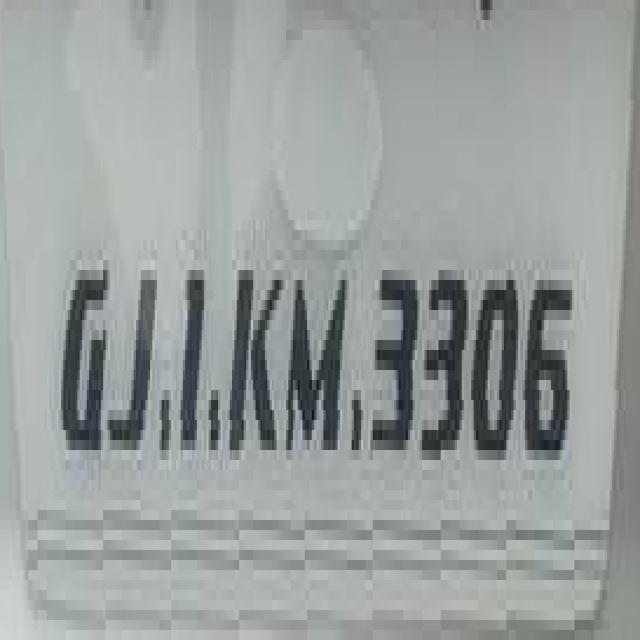license_plate: (5, 0, 605, 600)
